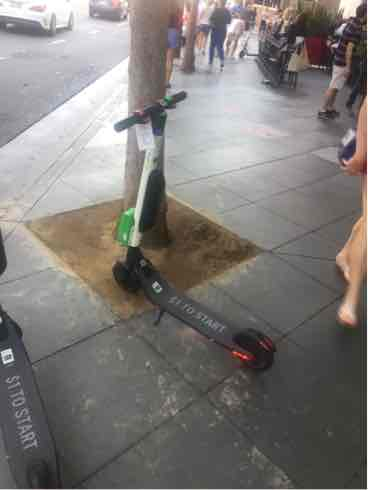scooter: (101, 80, 280, 373)
